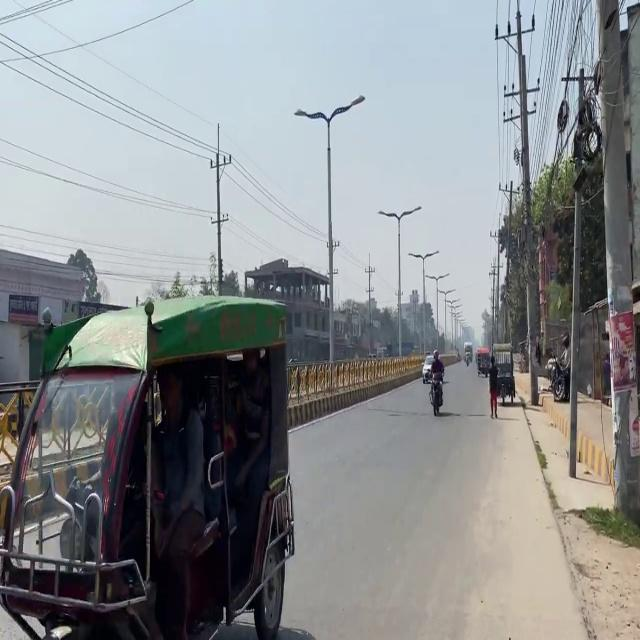Construction-barrier: (516, 393, 599, 638)
Fallen-tree: (422, 371, 449, 416), (545, 355, 569, 401), (464, 351, 471, 366)
Garbage-bin: (429, 349, 445, 406), (487, 356, 499, 418)
Light-pole: (594, 0, 639, 526)
Pothole: (515, 369, 617, 514)
Traffic-cone: (0, 294, 296, 638)
